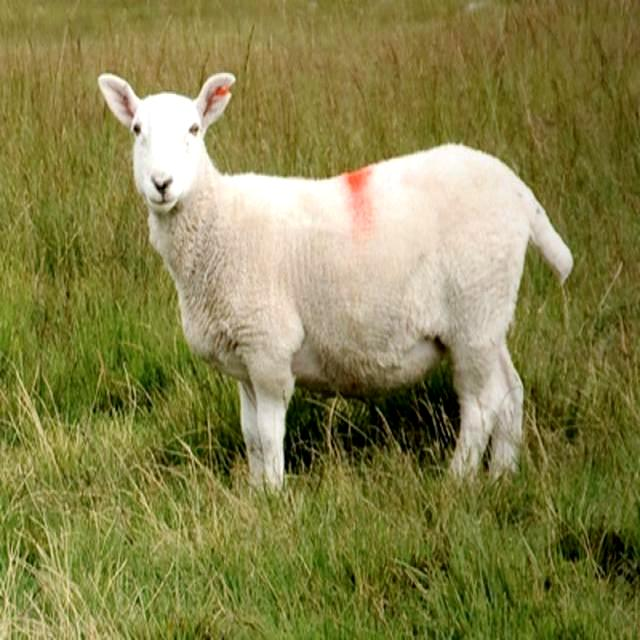sheep: (99, 75, 572, 494)
